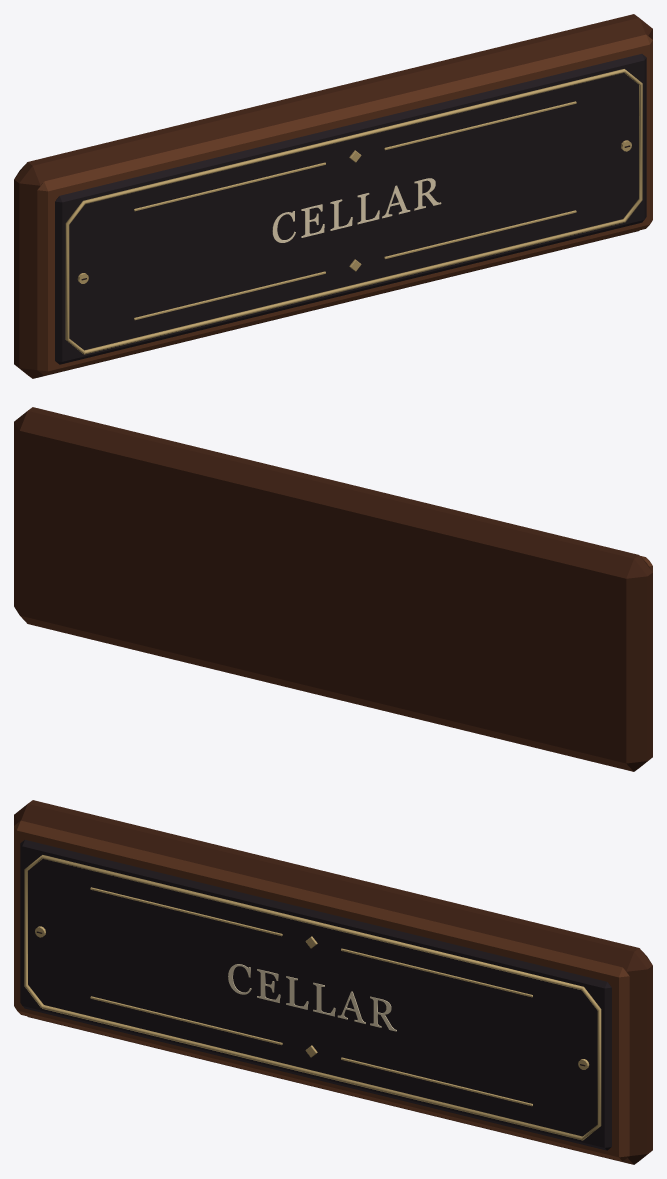
Rendered from CellarRoomSign.glb.
3 views of the same model, one above another, from view 1: azimuth 30°, elevation 25°; view 2: azimuth 150°, elevation 25°; view 3: azimuth 330°, elevation 25° (orthographic).
Visible parts, largest first — view 1: EnamelFace.005, OakMoulding.005, BevelledOak.005, GoldCartouche.005, Lettering_CELLAR, GoldHairline.021, GoldHairline.023, GoldHairline.020, GoldHairline.022; view 2: BevelledOak.005; view 3: EnamelFace.005, OakMoulding.005, BevelledOak.005, GoldCartouche.005, Lettering_CELLAR, GoldHairline.020, GoldHairline.022, GoldHairline.021, GoldHairline.023.
Part boxes in pixels (x1,y1,x2,y2): EnamelFace.005: [55, 54, 646, 364]; OakMoulding.005: [37, 34, 652, 375]; BevelledOak.005: [14, 14, 652, 378]; GoldCartouche.005: [65, 69, 642, 354]; Lettering_CELLAR: [272, 178, 441, 242]; GoldHairline.021: [384, 210, 576, 259]; GoldHairline.023: [384, 101, 576, 150]; GoldHairline.020: [134, 271, 325, 320]; GoldHairline.022: [134, 162, 325, 211]; BevelledOak.005: [14, 407, 652, 771]; EnamelFace.005: [20, 840, 611, 1150]; OakMoulding.005: [14, 820, 629, 1161]; BevelledOak.005: [14, 800, 652, 1164]; GoldCartouche.005: [24, 855, 601, 1140]; Lettering_CELLAR: [228, 964, 396, 1031]; GoldHairline.020: [90, 996, 282, 1045]; GoldHairline.022: [90, 887, 282, 936]; GoldHairline.021: [341, 1057, 532, 1106]; GoldHairline.023: [341, 948, 532, 997].
Bounding box in the file's own units: 4.2 × 1.35 × 0.381.
